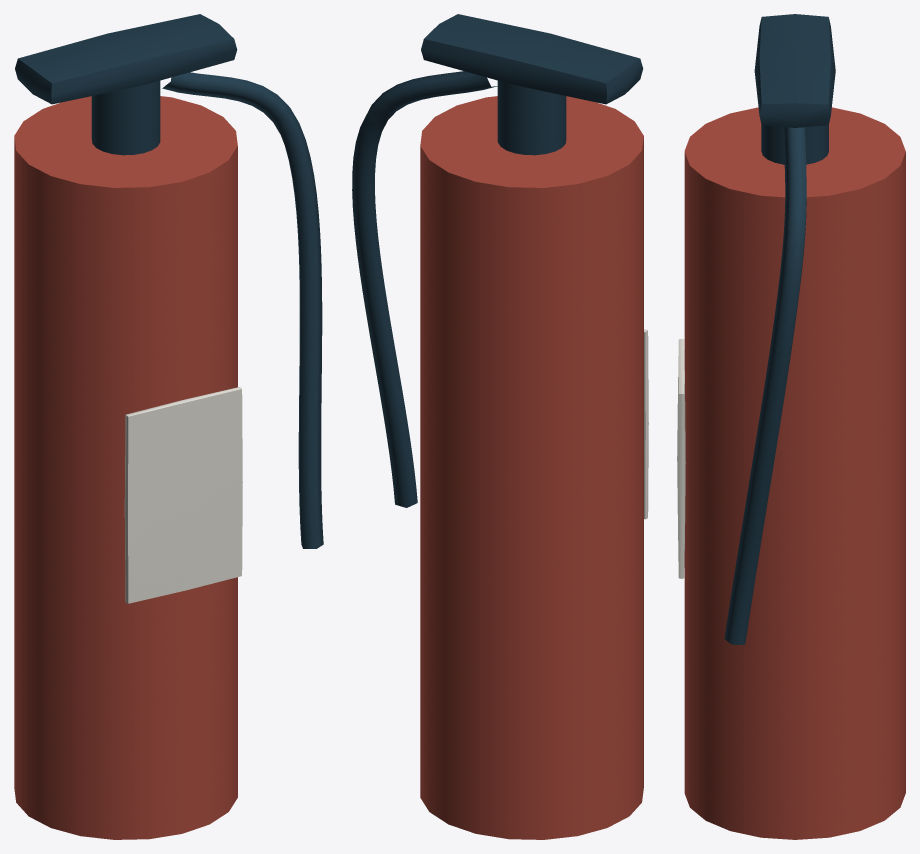
Rendered from fire-extinguisher.glb.
3 renders of one model, left to right at view 1: azimuth 30°, elevation 25°; view 2: azimuth 150°, elevation 25°; view 3: azimuth 270°, elevation 25°, orthographic.
Visible parts, largest first — view 1: fire-extinguisher; view 2: fire-extinguisher; view 3: fire-extinguisher.
Boxes of the visible parts, x1,y1,x2,y2 form: fire-extinguisher: (14,14,323,839); fire-extinguisher: (352,14,648,839); fire-extinguisher: (677,14,905,839).
Size of the model in its own units: 0.2168 by 0.5525 by 0.155.
Materials: 5 (5 with a texture image).
